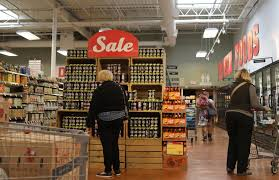Good: (85, 68, 257, 177)
